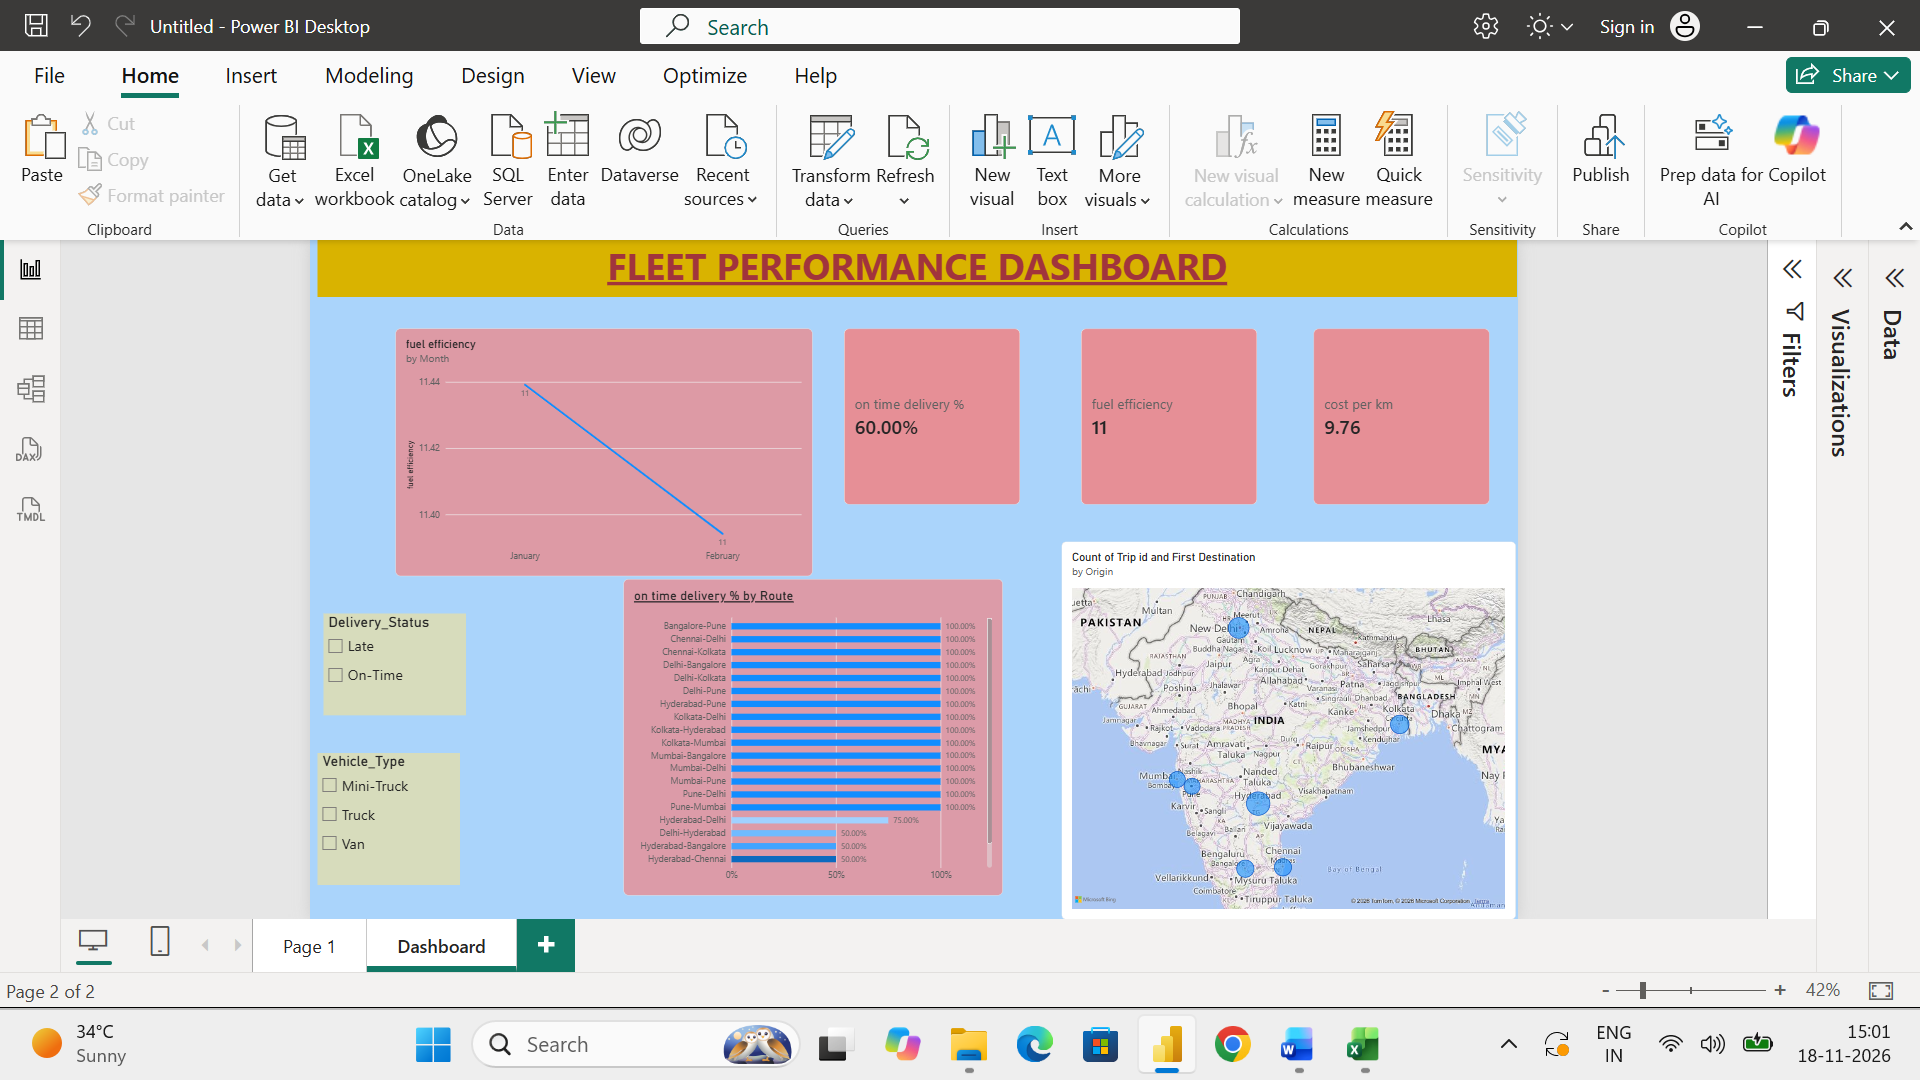

What the dashboard file says about the page in this screenshot:
{"tool":"powerbi","page":{"name":"Dashboard","canvas":[1920,1080],"ordinal":1},"visuals":[{"type":"textbox","box":[11.3,0,1907.7,90.7],"z":0},{"type":"cardVisual","fields":{"Data":["Trip_Data.on time delivery %"]},"box":[850.4,141.7,280,280],"z":1},{"type":"cardVisual","fields":{"Data":["Trip_data_with_average.fuel efficiency"]},"box":[1227.4,141.7,280,280],"z":2},{"type":"cardVisual","fields":{"Data":["Trip_data_with_average.cost per km"]},"box":[1595.9,141.7,280,280],"z":3},{"type":"clusteredBarChart","title":"on time delivery % by Route","fields":{"Category":["Trip_Data.Route"],"Y":["Trip_Data.on time delivery %"]},"box":[498.7,539.2,603.6,503.4],"z":4},{"type":"lineChart","fields":{"Category":["Trip_data_with_average.Delivery_Date.Variation.Date Hierarchy.Month"],"Y":["Trip_data_with_average.fuel efficiency"]},"box":[136,140.8,663.3,393.7],"z":5},{"type":"map","fields":{"Category":["Trip_data_with_average.Origin"],"Size":["CountNonNull(Trip_data_with_average.Trip id)"]},"box":[1195.3,479.6,722.9,601.3],"z":6},{"type":"slicer","fields":{"Values":["Trip_data_with_average.Delivery_Status"]},"box":[21.5,594.1,226.7,162.2],"z":7},{"type":"slicer","fields":{"Values":["Trip_data_with_average.Vehicle_Type"]},"box":[11.9,816,226.7,210],"z":8}]}

Visuals, with their boxes on the page's 1920x1080 design canvas (x1, y1, x2, y2). These are canvas units, not pixel positions in the 1920x1080 screenshot, which may show the page scaled, cropped or inside an application window:
textbox: bbox=(11, 0, 1919, 91)
cardVisual - Trip_Data.on time delivery %: bbox=(850, 142, 1130, 422)
cardVisual - Trip_data_with_average.fuel efficiency: bbox=(1227, 142, 1507, 422)
cardVisual - Trip_data_with_average.cost per km: bbox=(1596, 142, 1876, 422)
"on time delivery % by Route" clusteredBarChart: bbox=(499, 539, 1102, 1043)
lineChart - Trip_data_with_average.Delivery_Date.Variation.Date Hierarchy.Month x Trip_data_with_average.fuel efficiency: bbox=(136, 141, 799, 534)
map - Trip_data_with_average.Origin x CountNonNull(Trip_data_with_average.Trip id): bbox=(1195, 480, 1918, 1081)
slicer - Trip_data_with_average.Delivery_Status: bbox=(22, 594, 248, 756)
slicer - Trip_data_with_average.Vehicle_Type: bbox=(12, 816, 239, 1026)
